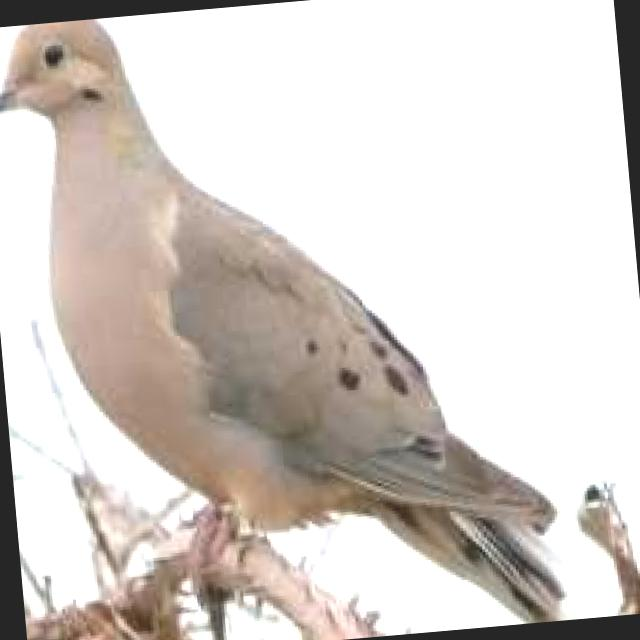bird: (0, 0, 572, 640)
